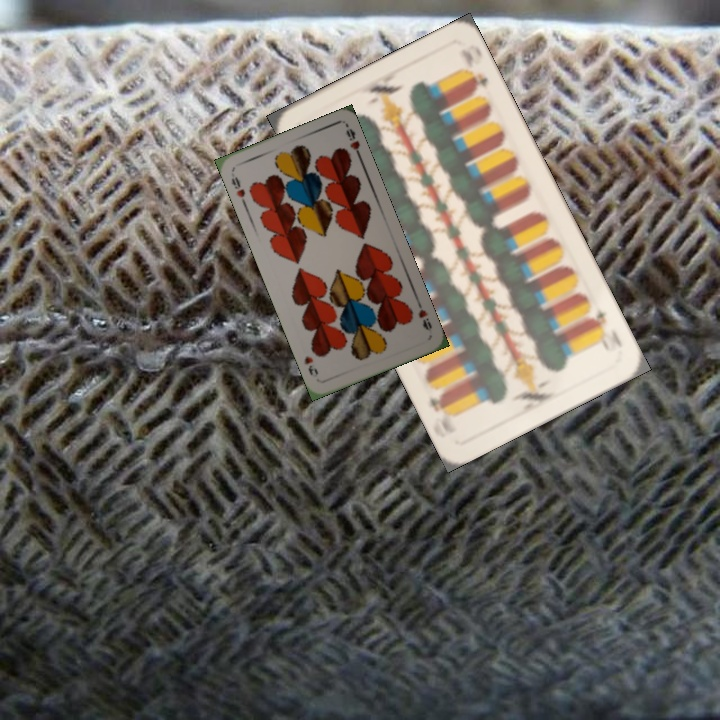E10: (584, 305, 613, 340)
H9: (413, 297, 434, 334), (227, 173, 249, 208)
